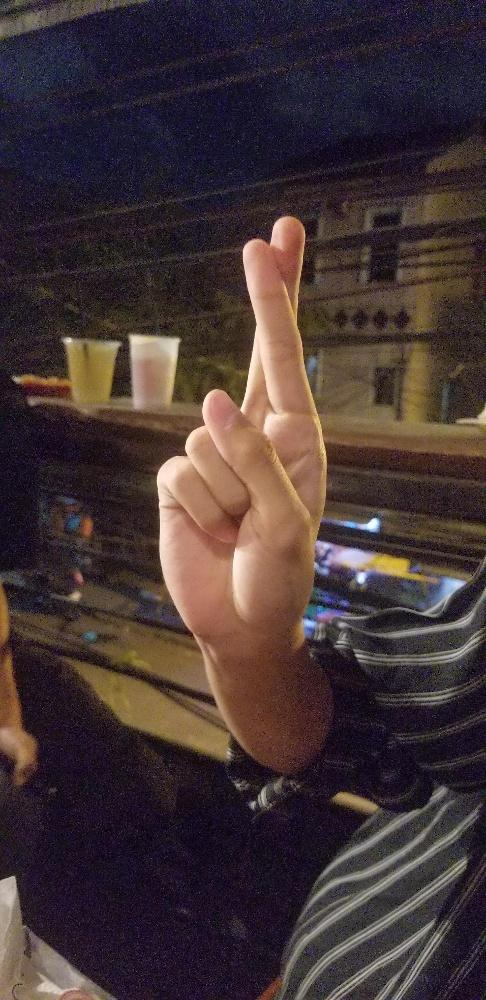r: (153, 203, 331, 636)
